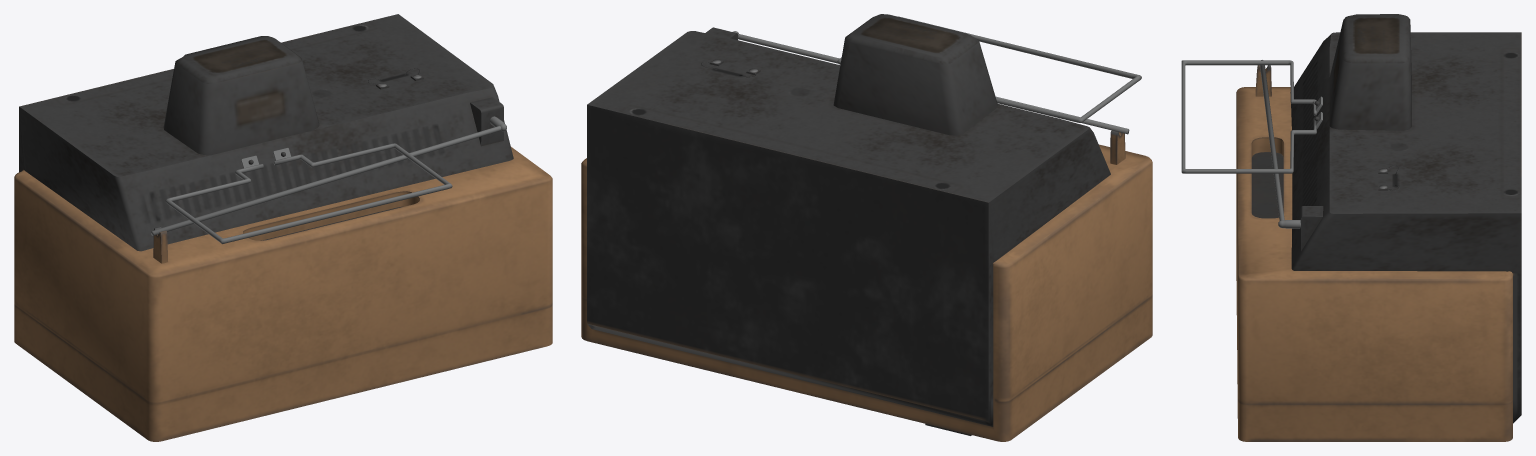
The model's file is retro-television-e93824.glb.
The picture shows the model from 3 angles, left to right: view 1: azimuth 30°, elevation 25°; view 2: azimuth 150°, elevation 25°; view 3: azimuth 270°, elevation 25°; orthographic projection. The views are drawn at different scales.
Visible parts, largest first — view 1: PropMesh; view 2: PropMesh; view 3: PropMesh.
Boxes of the visible parts, <box> form: PropMesh: <box>14,14,552,441</box>; PropMesh: <box>581,14,1152,441</box>; PropMesh: <box>1181,14,1521,441</box>.
Bounding box in the file's own units: 3.06 × 2.2 × 2.28.
2 materials, 2 textured.
